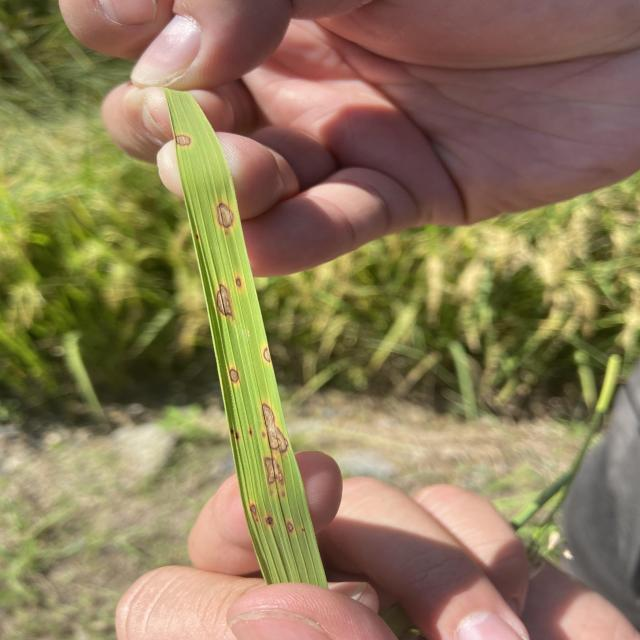Dao on: (262, 403, 289, 452), (264, 457, 284, 485), (217, 285, 233, 316), (217, 203, 234, 228), (176, 134, 190, 146), (229, 369, 239, 382), (265, 515, 275, 526), (264, 348, 271, 362), (287, 521, 294, 531), (250, 504, 256, 514), (236, 278, 241, 287), (282, 490, 286, 499), (249, 429, 253, 435), (262, 432, 266, 438), (236, 432, 239, 439), (256, 518, 259, 522), (231, 429, 233, 433), (302, 529, 304, 531)
